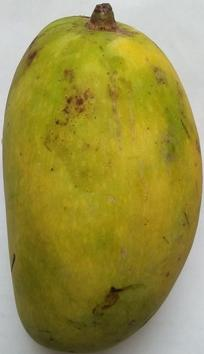PartiallyRipe: (0, 1, 204, 354)
